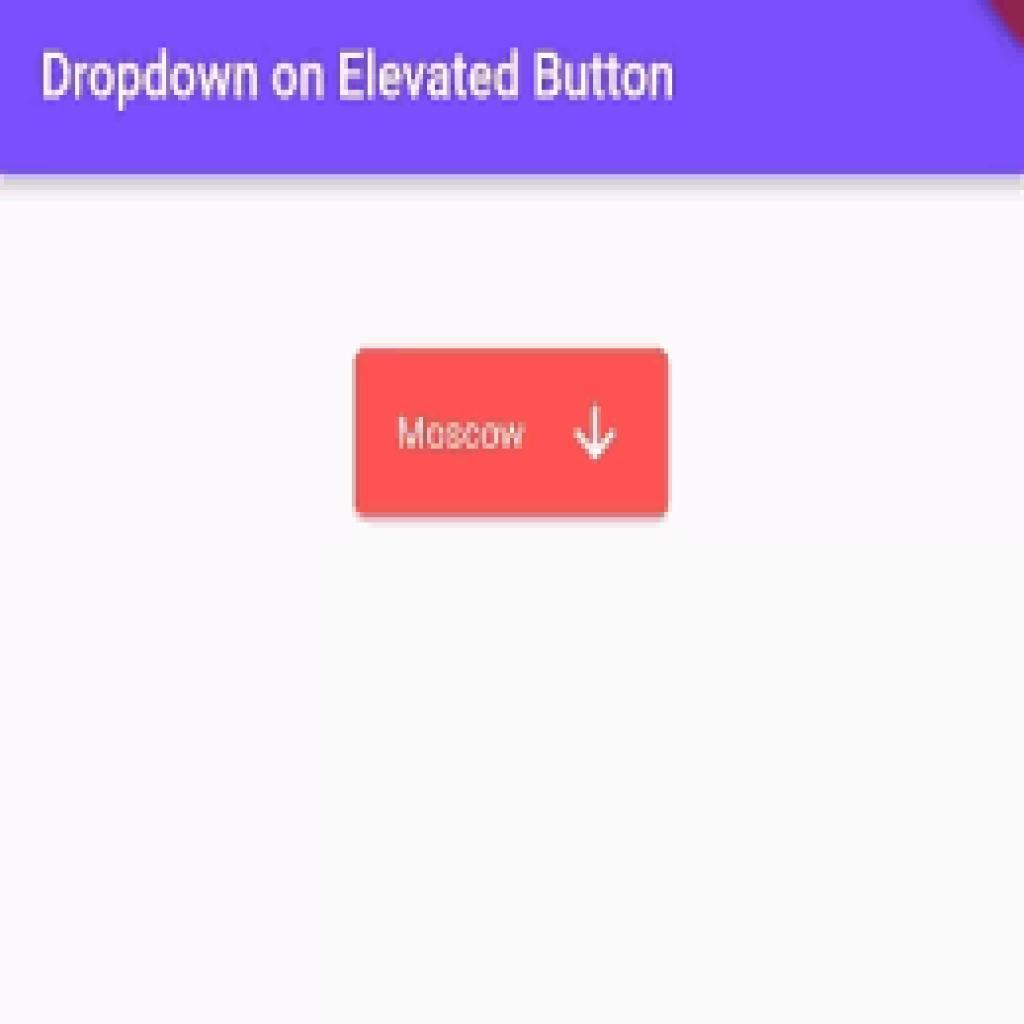dropdown: (359, 350, 668, 514)
